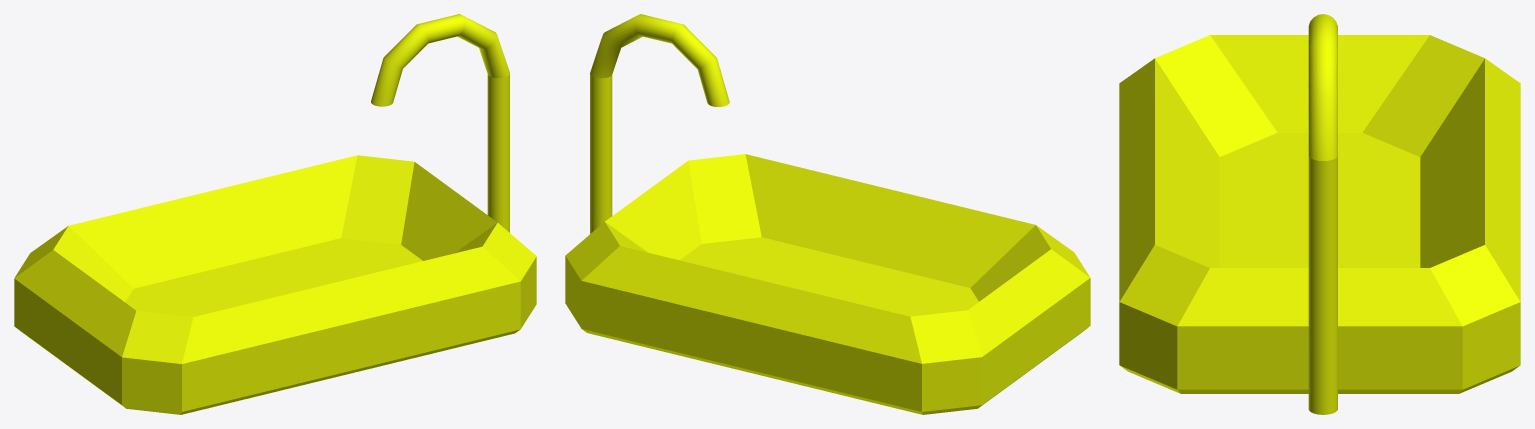
File: Sink1.FBX
3 views of the same model, side by side, from view 1: azimuth 30°, elevation 25°; view 2: azimuth 150°, elevation 25°; view 3: azimuth 270°, elevation 25° (orthographic). The views are drawn at different scales.
Parts seen in each view (by area): view 1: Box002; view 2: Box002; view 3: Box002.
Boxes of the visible parts, x1=… form: Box002: x1=14, y1=14, x2=536, y2=414; Box002: x1=565, y1=14, x2=1090, y2=414; Box002: x1=1119, y1=14, x2=1520, y2=414.
Bounding box in the file's own units: 0.8371 × 0.4704 × 0.4978.
